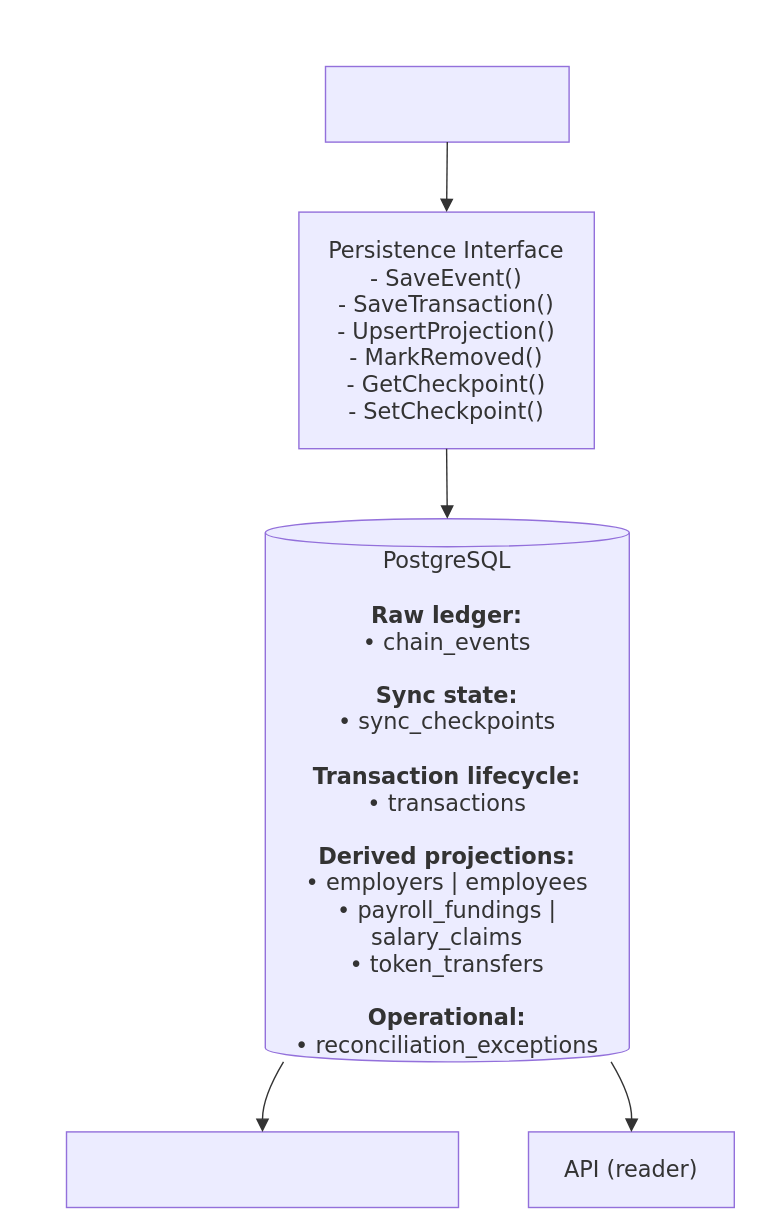
This 759x1232 diagram has some shape labels left out. Each missing label, with the centre of its shape:
Indexer (writer): the point at 446,103
Reconciliation Worker (reader): the point at 261,1169
